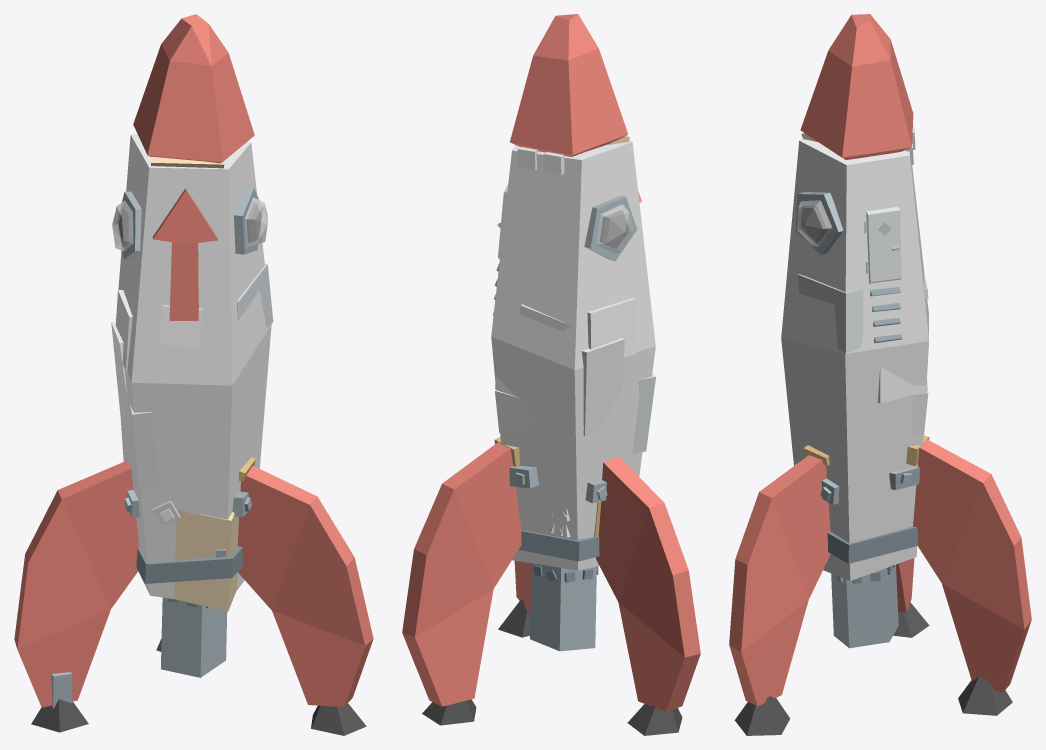
The model's file is rockettest.fbx.
3 views of the same model, side by side, from view 1: azimuth 30°, elevation 25°; view 2: azimuth 150°, elevation 25°; view 3: azimuth 270°, elevation 25° (orthographic). The views are drawn at different scales.
Visible parts, largest first — view 1: mesh_1823614401, mesh_348370959, mesh_582586018, mesh_1737653074, mesh_485851533, mesh_1015692500, mesh_1886745388, mesh_1373126144, mesh_349250242, mesh_1080727792, mesh_477271365, mesh_1200968520 (+8 smaller); view 2: mesh_1823614401, mesh_845660779, mesh_582586018, mesh_1737653074, mesh_485851533, mesh_1263720195, mesh_1167826545, mesh_1373126144, mesh_43125129, mesh_1700909752, mesh_1200968520, mesh_1090140135 (+7 smaller); view 3: mesh_1823614401, mesh_845660779, mesh_348370959, mesh_1737653074, mesh_485851533, mesh_1183308568, mesh_524388391, mesh_1373126144, mesh_1080727792, mesh_1679226975, mesh_1222793031, mesh_1264580924 (+5 smaller).
Part boxes in pixels (x1,y1,x2,y2): mesh_1823614401: (116, 133, 271, 598); mesh_348370959: (237, 466, 373, 706); mesh_582586018: (14, 460, 138, 707); mesh_1737653074: (133, 14, 254, 163); mesh_485851533: (161, 597, 227, 677); mesh_1015692500: (174, 510, 238, 611); mesh_1886745388: (153, 188, 217, 320); mesh_1373126144: (136, 546, 242, 583); mesh_349250242: (130, 405, 158, 488); mesh_1080727792: (311, 703, 366, 735); mesh_477271365: (159, 305, 202, 347); mesh_1200968520: (31, 699, 88, 732); mesh_1823614401: (491, 140, 655, 570); mesh_845660779: (402, 442, 521, 706); mesh_582586018: (596, 457, 700, 711); mesh_1737653074: (510, 14, 627, 156); mesh_485851533: (530, 563, 596, 651); mesh_1263720195: (581, 338, 624, 436); mesh_1167826545: (587, 298, 636, 357); mesh_1373126144: (518, 530, 599, 561); mesh_43125129: (584, 195, 637, 261); mesh_1700909752: (596, 204, 633, 253); mesh_1200968520: (627, 704, 682, 735); mesh_1090140135: (495, 389, 535, 434); mesh_1823614401: (781, 138, 929, 580); mesh_845660779: (913, 439, 1031, 692); mesh_348370959: (729, 455, 830, 706); mesh_1737653074: (800, 14, 913, 159); mesh_485851533: (831, 564, 898, 648); mesh_1183308568: (866, 206, 901, 283); mesh_524388391: (797, 274, 863, 352); mesh_1373126144: (827, 526, 917, 563); mesh_1080727792: (734, 696, 790, 735); mesh_1679226975: (795, 192, 843, 254); mesh_1222793031: (958, 676, 1012, 715); mesh_1264580924: (797, 200, 831, 246).
Bounding box in the file's own units: 22.14 × 53.23 × 21.93.
